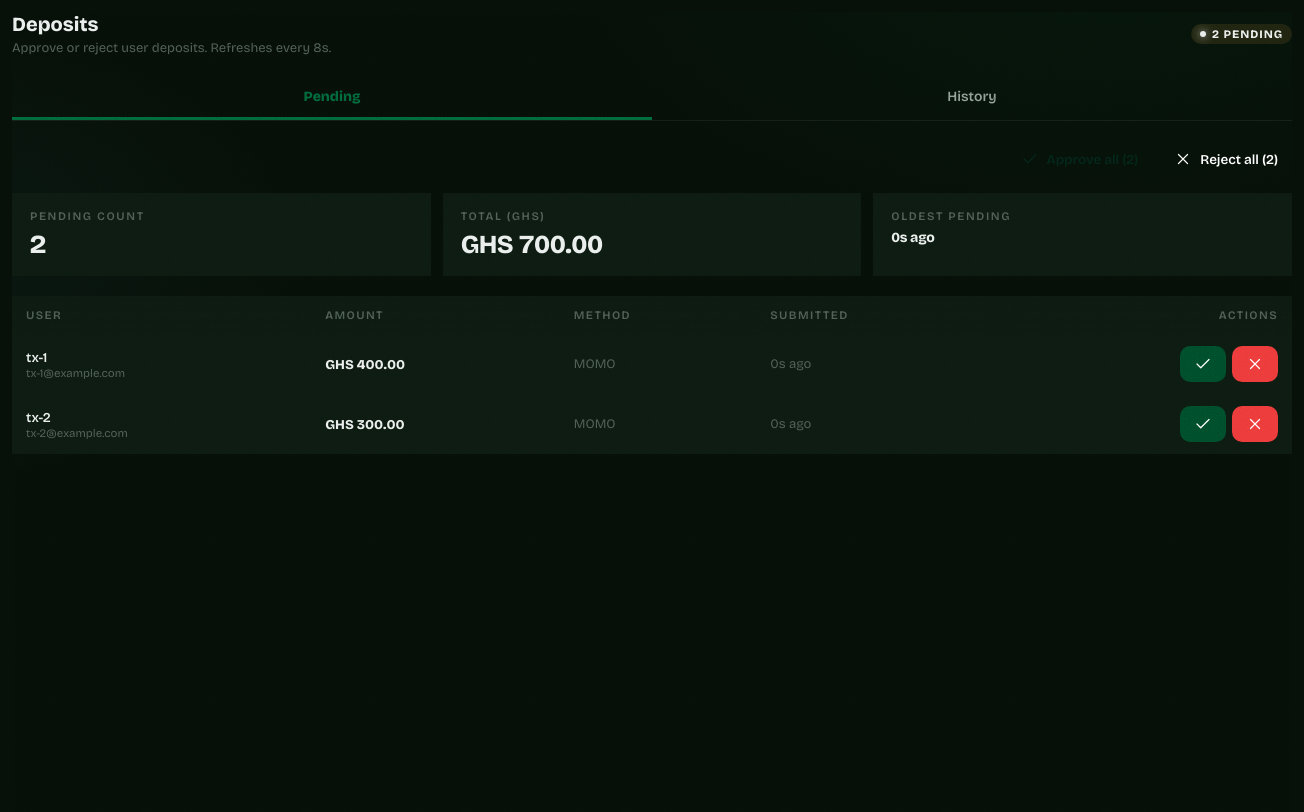
Scenario: Deposits page bulk actions › rejects everything after confirmation and sends a reason
Click the button "Reject all (2)".
click(1226, 159)  # box [1160,141,1292,177]
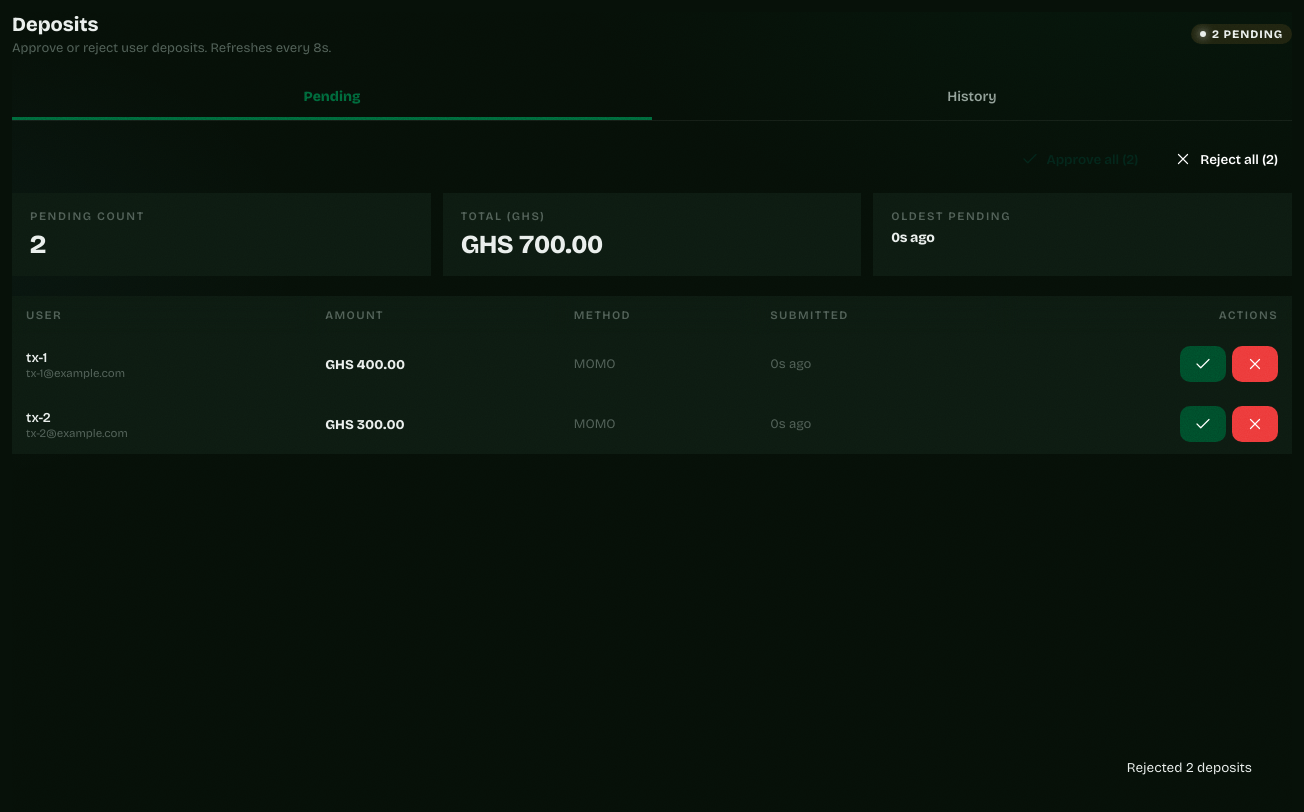
expect the text "Rejected 2 deposits" is shown: met, box [1127,759,1252,776]
